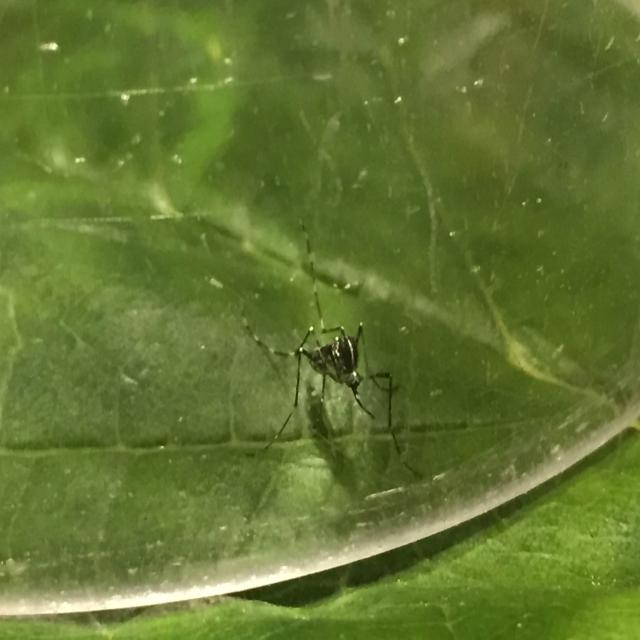albopictus: (230, 210, 420, 474)
